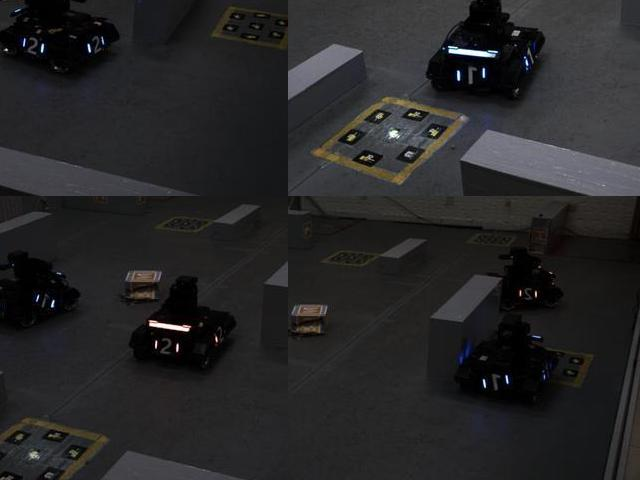armor: (451, 63, 491, 93), (17, 31, 48, 62), (477, 370, 515, 395), (150, 335, 182, 362), (33, 288, 62, 316), (79, 32, 109, 58), (521, 41, 539, 76), (515, 283, 545, 304), (210, 322, 229, 348), (0, 292, 6, 320)
